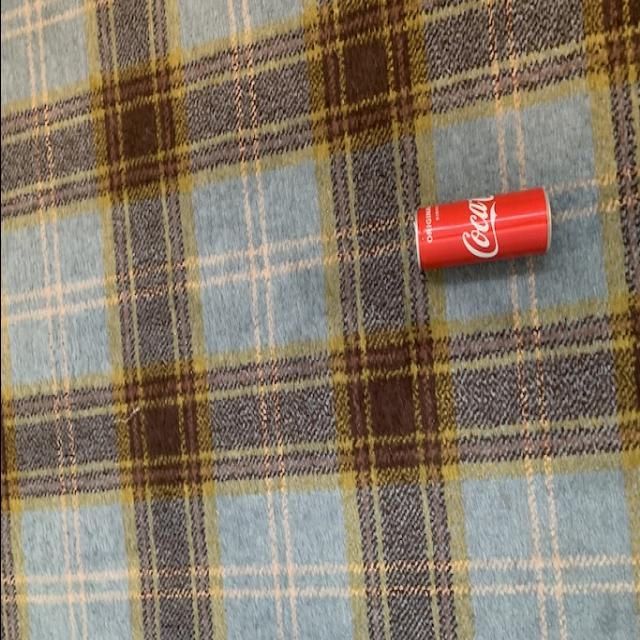Aluminum Can: (413, 188, 550, 282)
